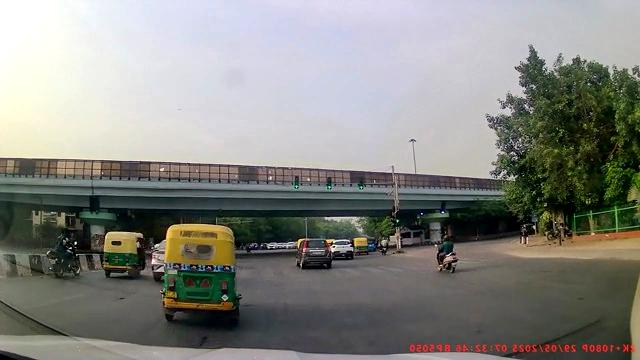motorcycle_with_helmet: (433, 234, 460, 274)
